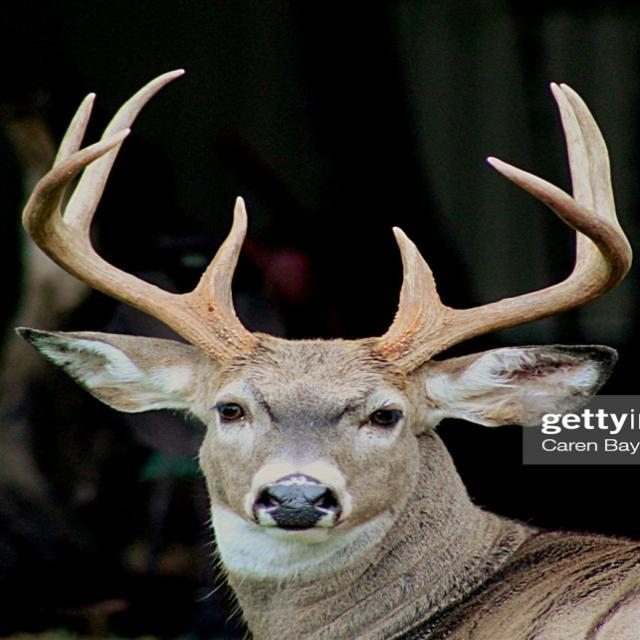L-F: (370, 156, 632, 378)
L-G1: (391, 225, 448, 322)
R-F: (22, 129, 258, 370)
R-G1: (192, 195, 248, 309)
